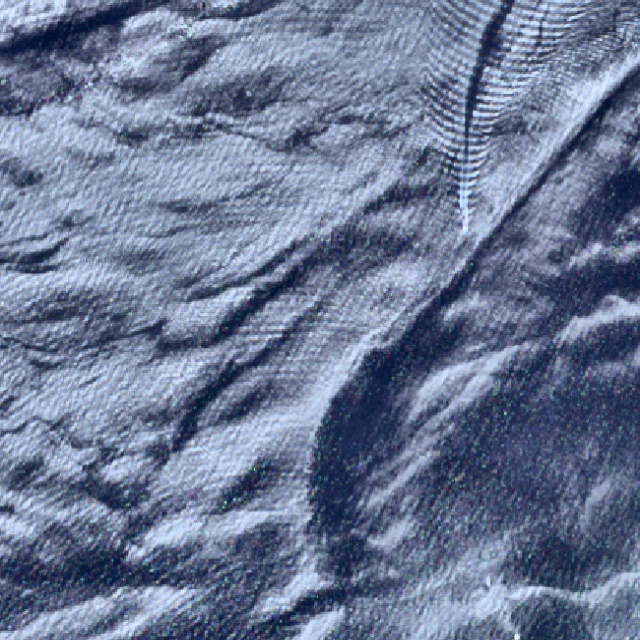wake: (421, 65, 514, 235)
